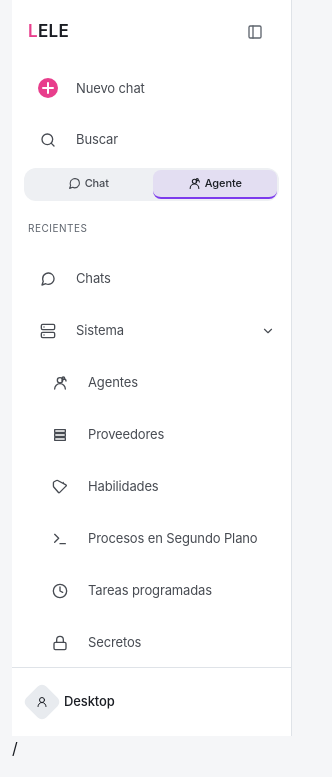
Sidebar — System subnav (expanded) › clicking a child entry navigates to its route
Click the button labelled "Habilidades".
click(158, 487)  # box [32,463,283,511]
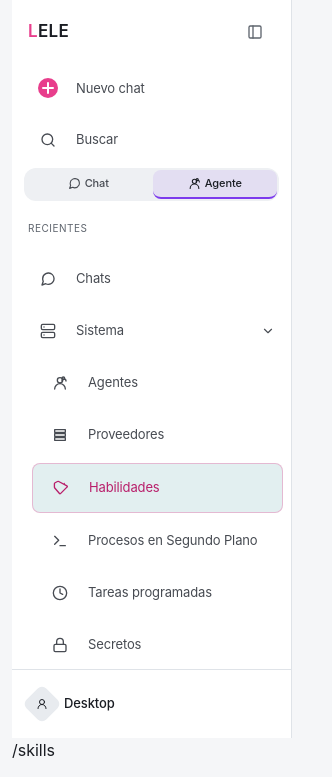
Result: the text with test id "location" reads "/skills" at [12,740,55,760]
Click the button labelled "Secretos".
click(158, 645)  # box [32,621,283,669]
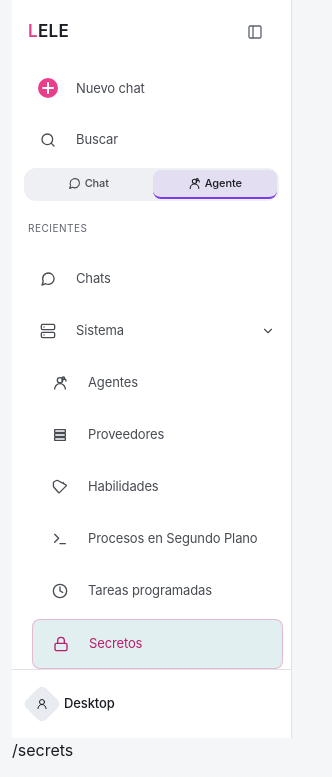
Result: the text with test id "location" reads "/secrets" at [12,740,73,760]
